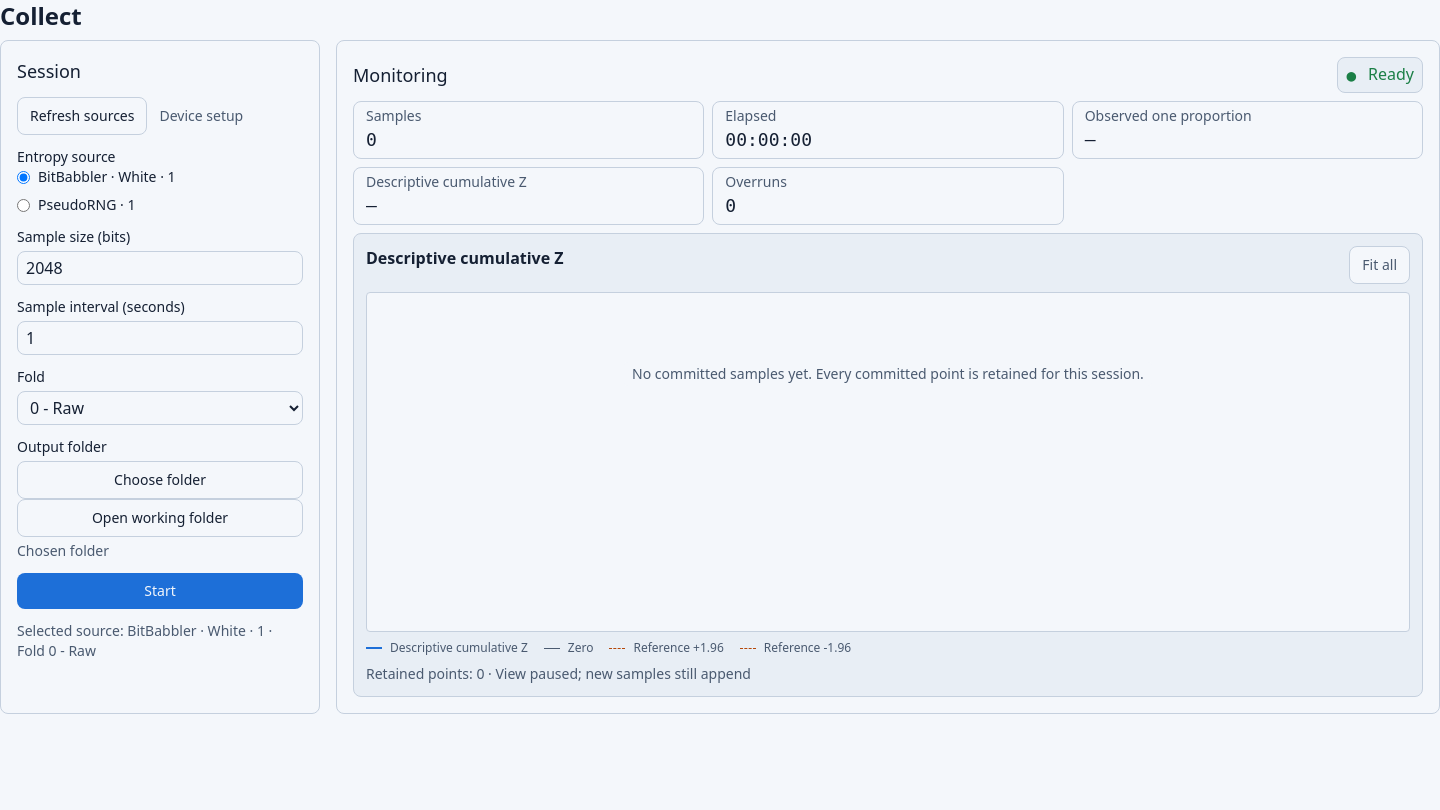
Scenario: SessionConfiguration › rejects a non-byte-aligned sample size
Replace the text in the number field labelled "Sample size (bits)" with "7": {"x": 160, "y": 268} [17,251,303,285]
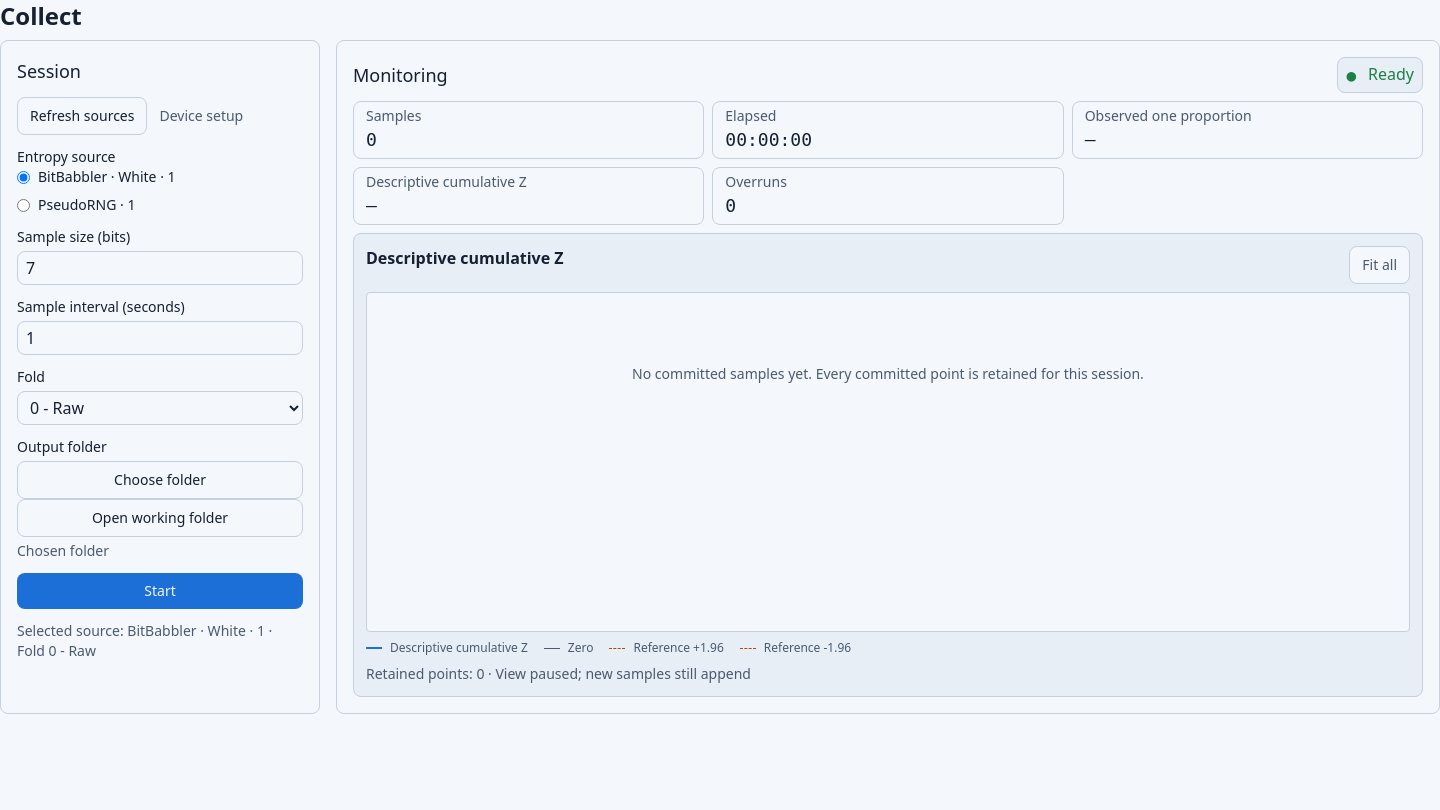
Click the button "Start": {"x": 160, "y": 591} [17,573,303,609]
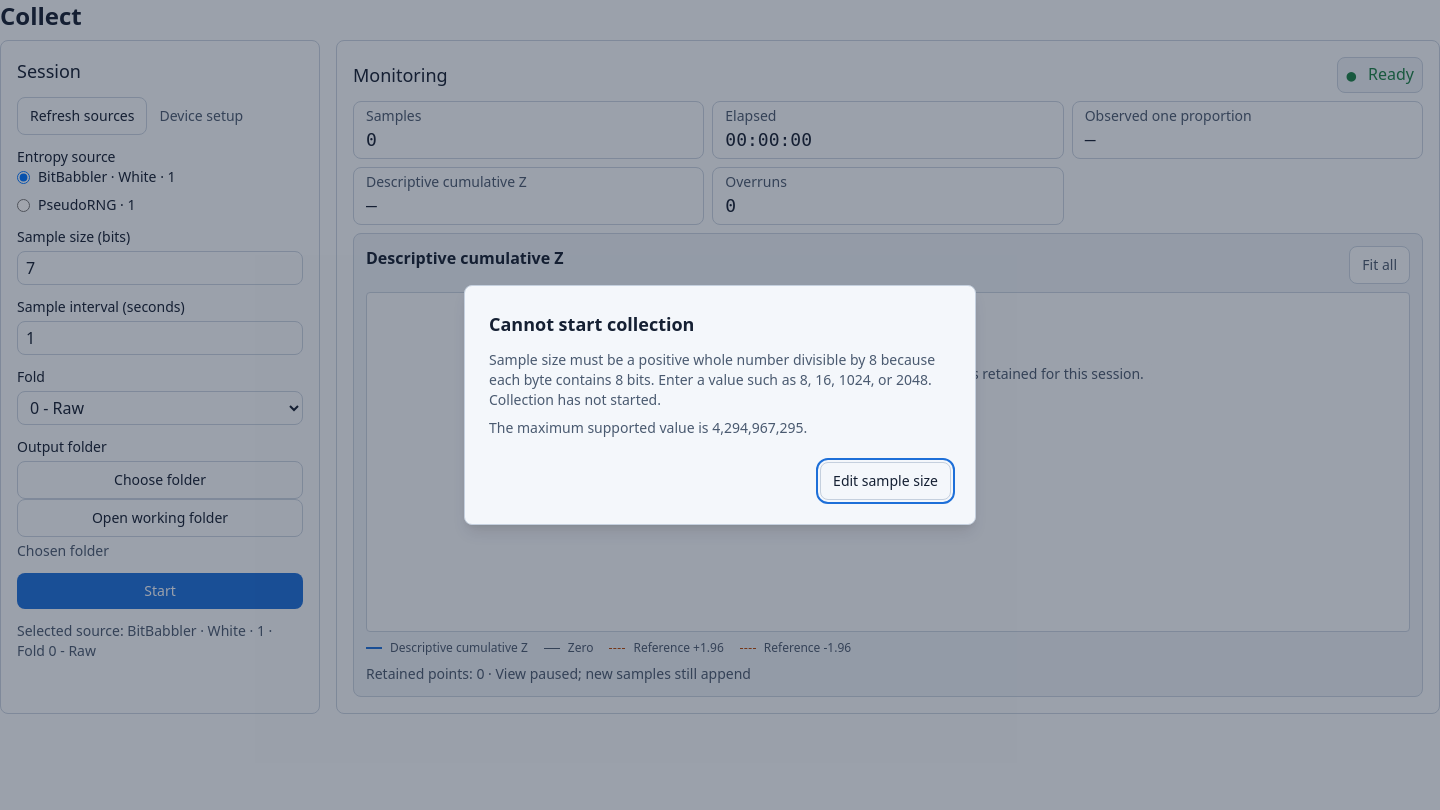
Result: the dialog "Cannot start collection" is shown at [464,285,976,525]
